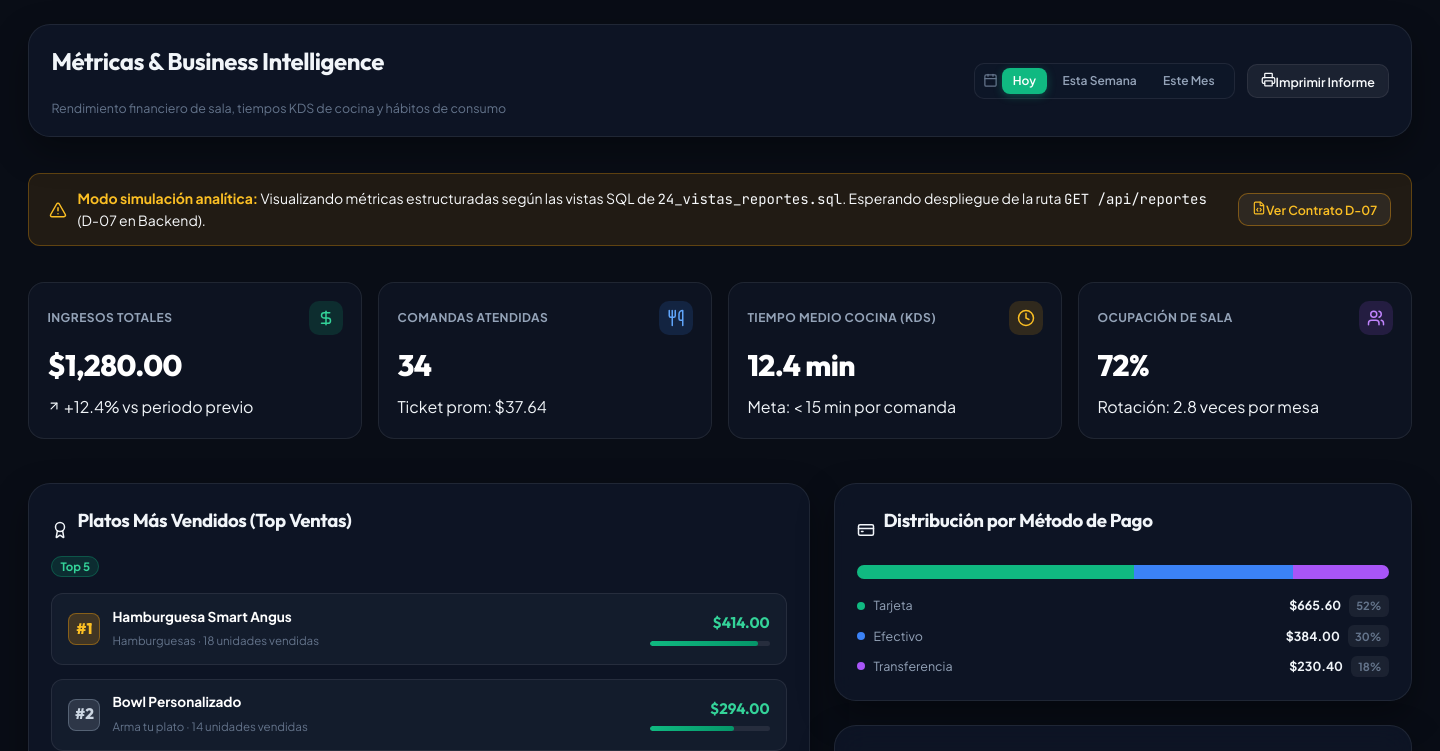
Scenario: Flujo de Reportes & BI en frontend-restaurante › debe cambiar de rango al seleccionar "Esta Semana"
The width and height of the screenshot is (1440, 751).
expect the text "$1,280.00" is shown: met, box [47, 346, 182, 384]
Step 1. Click the button "Esta Semana" → (1100, 81), box [1051, 68, 1148, 94]
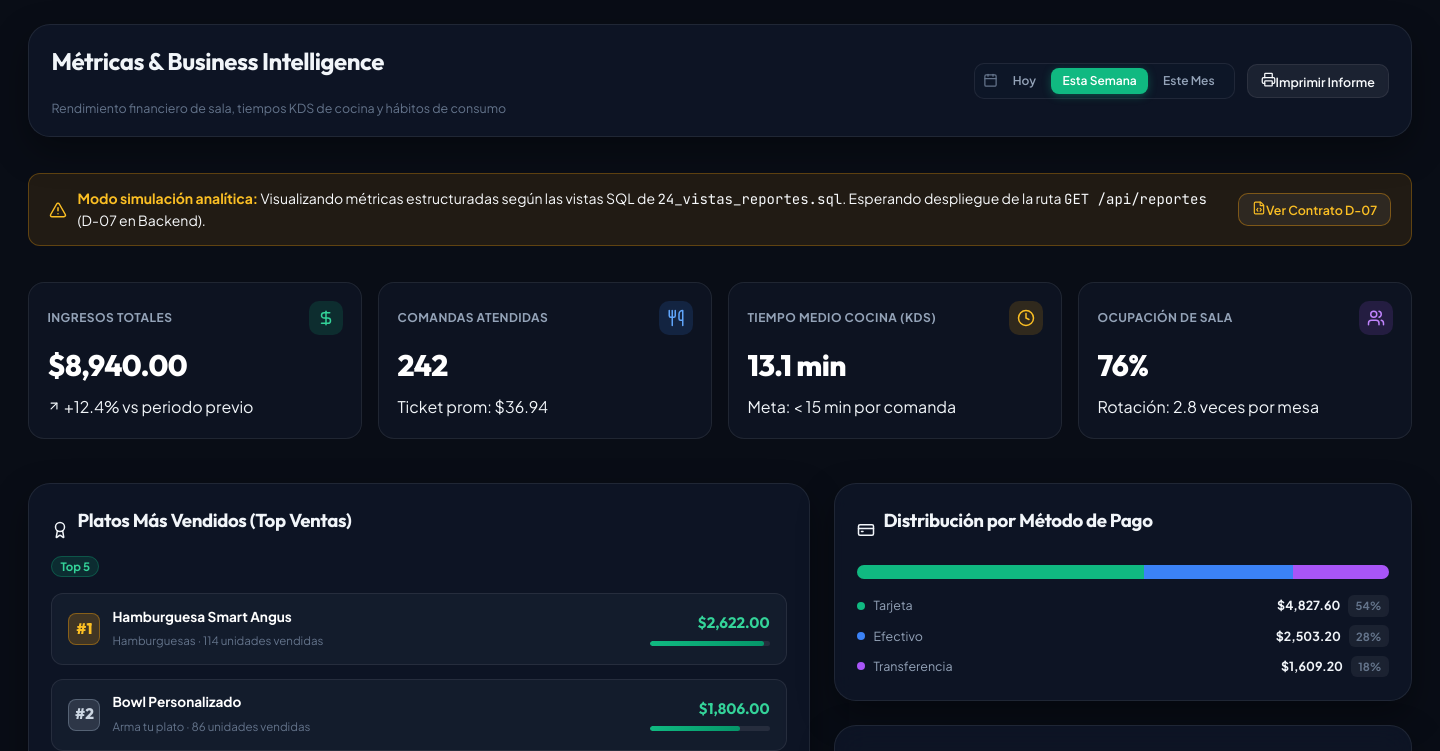
expect the text "$8,940.00" is shown: met, box [47, 346, 187, 384]
